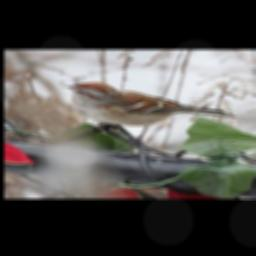Sparrow: (67, 82, 239, 147)
